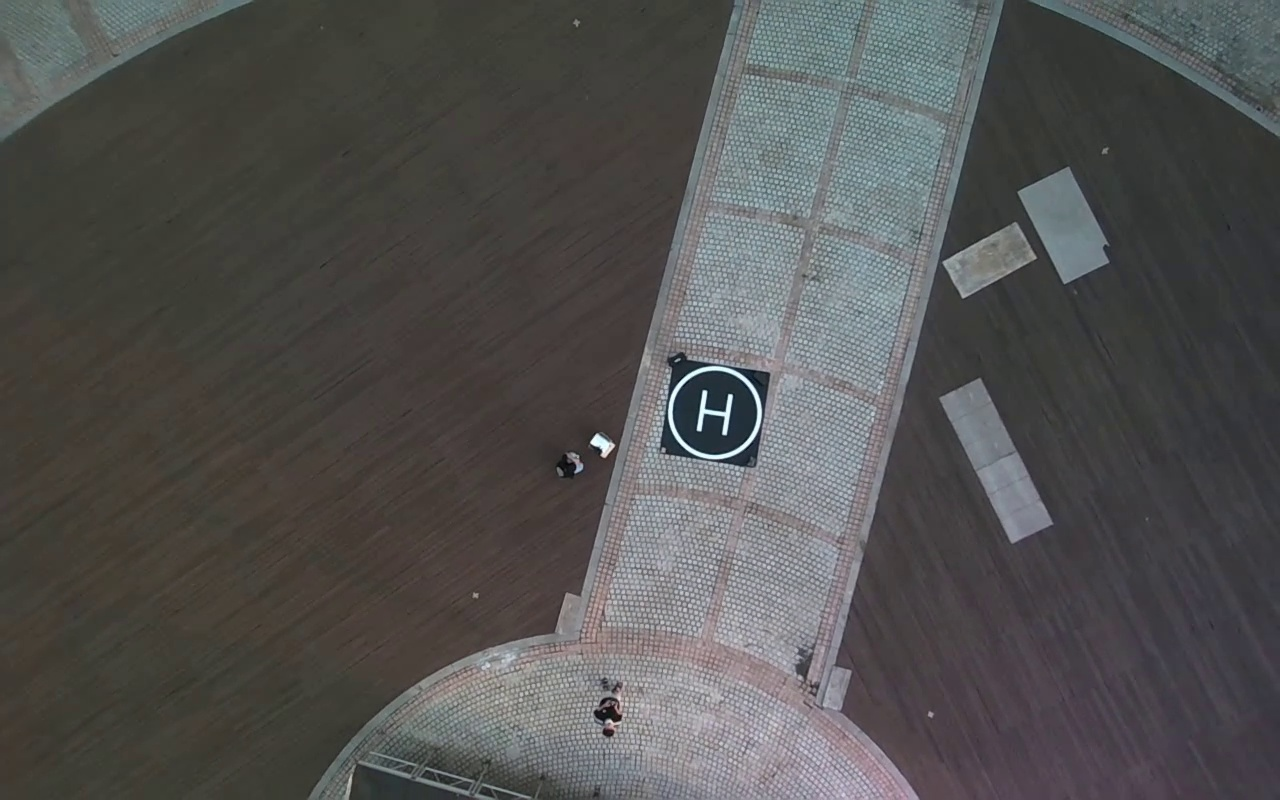H: (697, 390, 733, 435)
heliport: (667, 363, 764, 458)
